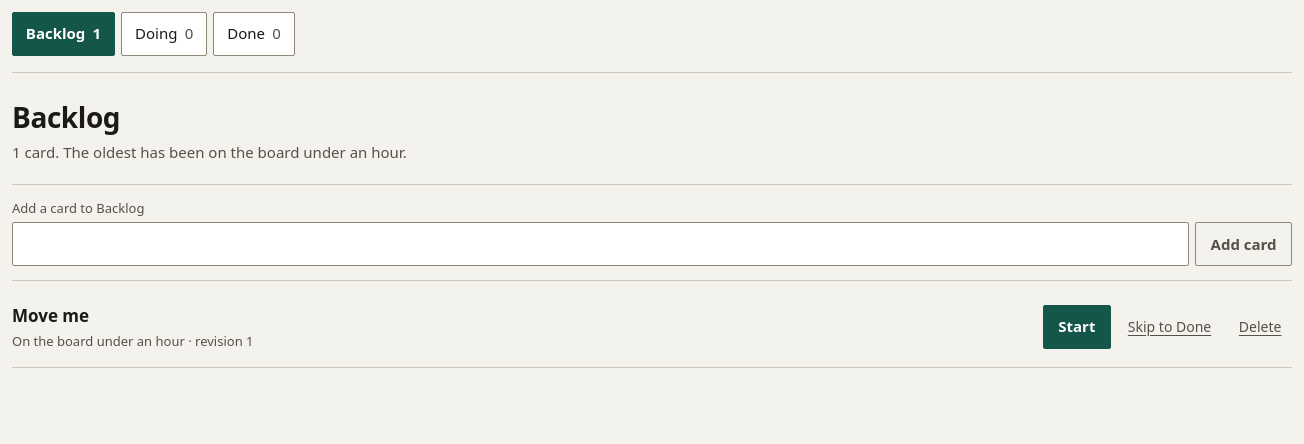
Board › clears an ordinary move failure once a later move succeeds
Expected: the text "Move me" is shown, [12,304,89,327]
Step 1. Click the button named "Start: move \"Move me\" to Doing" → (1077,327), box [1043,305,1111,349]
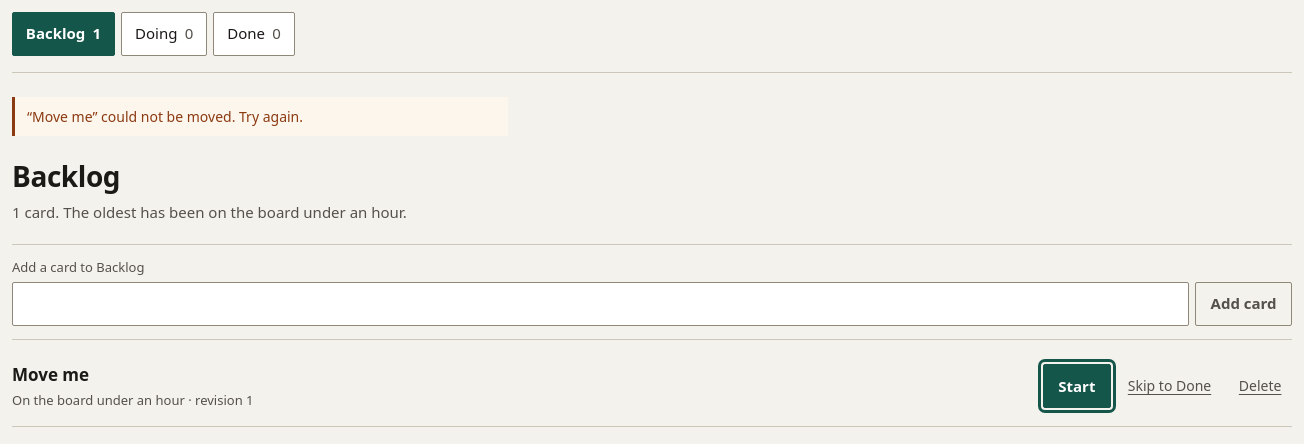
Expected: the message "“Move me” could not be moved. Try again." is shown, [12,97,508,136]
Step 2. Click the button named "Start: move \"Move me\" to Doing" → (1077,386), box [1043,364,1111,408]
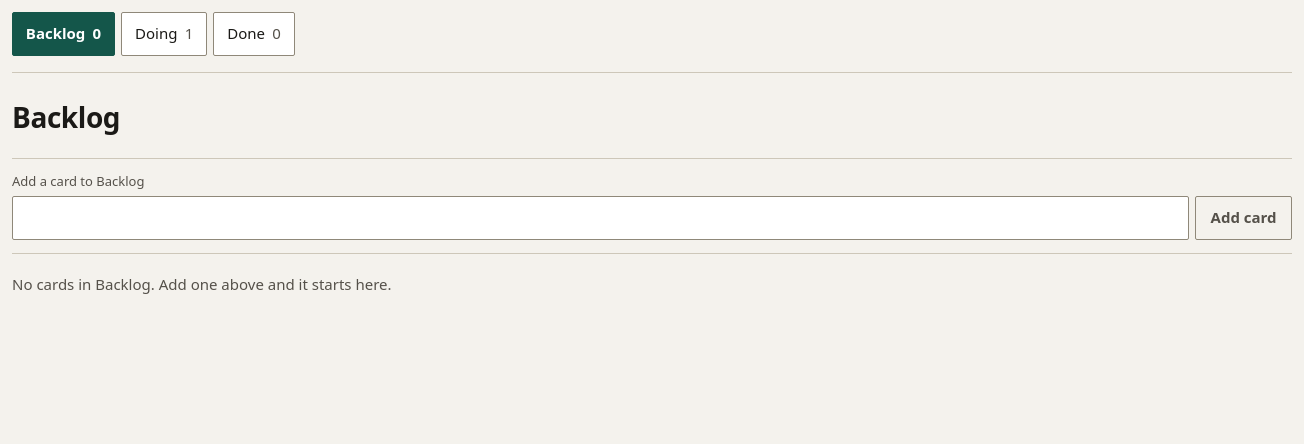
Expected: the message "“Move me” could not be moved. Try again." is gone
